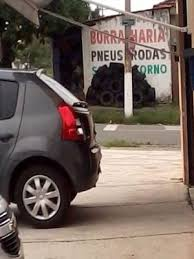tire: (16, 164, 71, 230), (126, 91, 146, 108), (113, 90, 129, 109), (99, 90, 115, 107), (107, 79, 124, 94)
